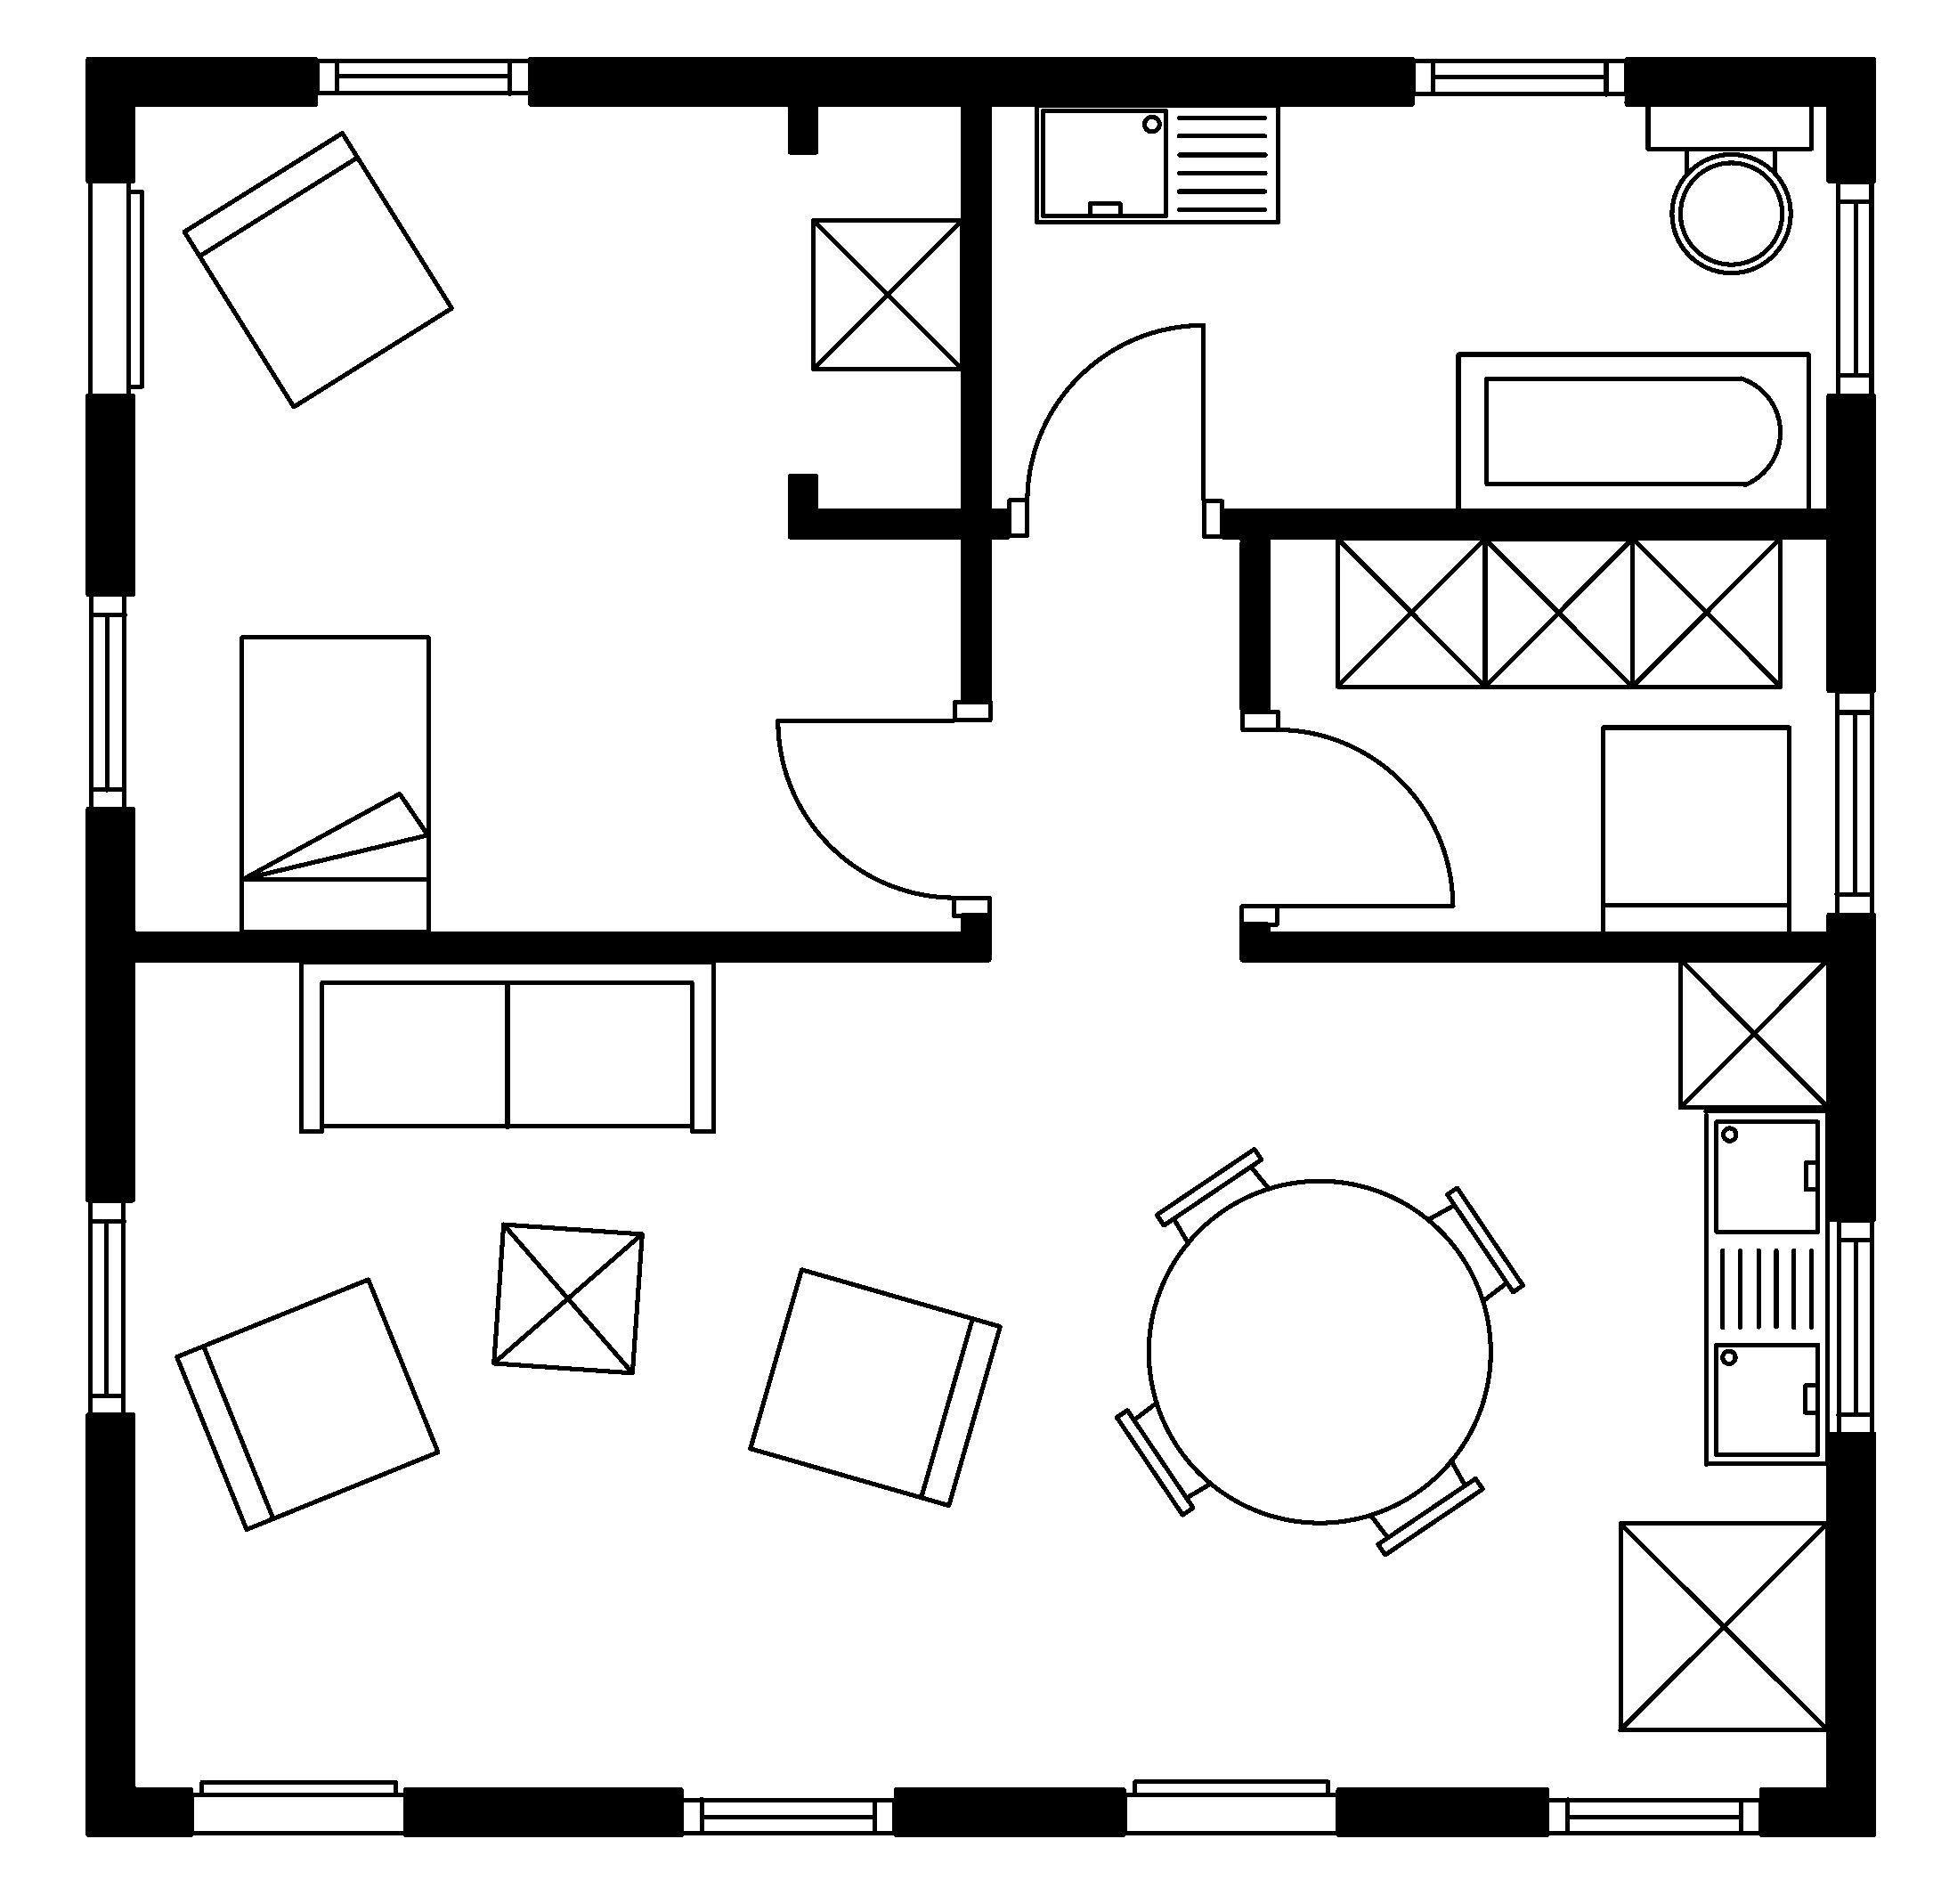basin: (1696, 1104, 1828, 1470), (1030, 101, 1285, 228)
bed: (235, 629, 436, 931)
door: (1238, 710, 1461, 926), (1007, 317, 1224, 541), (770, 703, 997, 914)
roundTable: (1112, 1140, 1532, 1562)
window: (1832, 685, 1877, 912), (680, 1794, 898, 1841), (1544, 1792, 1760, 1839), (317, 54, 530, 101), (84, 1198, 129, 1418), (1415, 54, 1626, 101), (85, 593, 131, 811), (1835, 1221, 1879, 1433), (1834, 180, 1875, 399)
